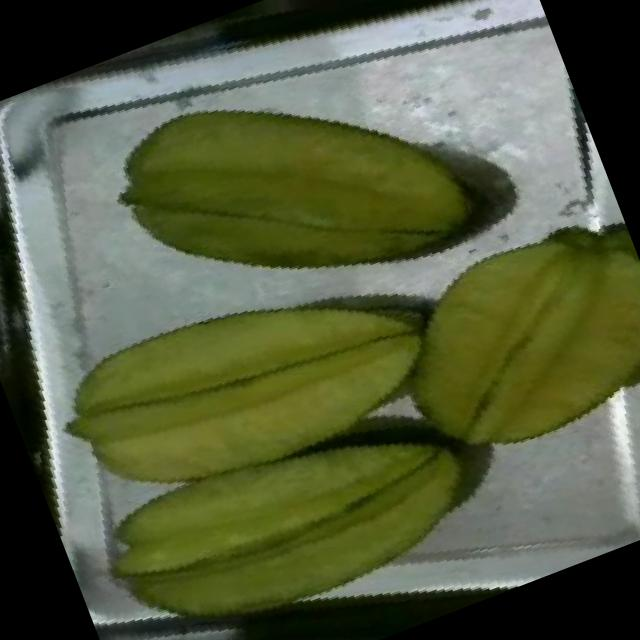fruit: (66, 1, 524, 406), (19, 258, 500, 640), (337, 172, 640, 529)
